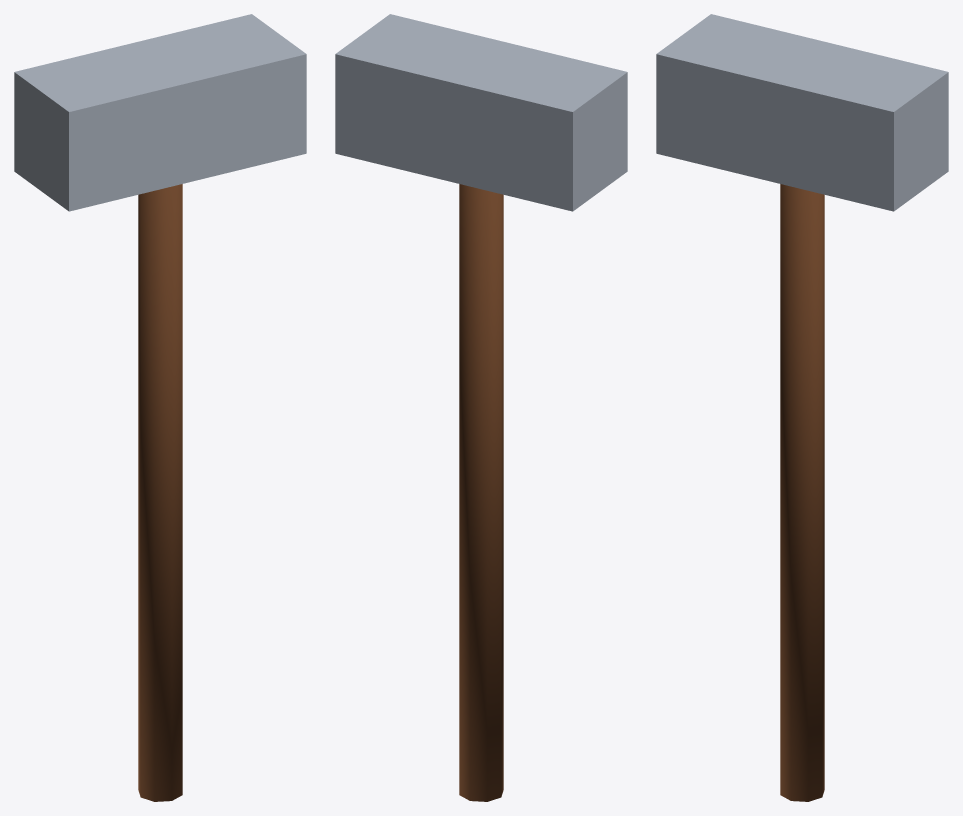
File: hammer.glb
3 renders of one model, left to right at view 1: azimuth 30°, elevation 25°; view 2: azimuth 150°, elevation 25°; view 3: azimuth 330°, elevation 25°, orthographic.
Parts seen in each view (by area): view 1: hammer; view 2: hammer; view 3: hammer.
Part boxes in pixels (x1=…): hammer: x1=14, y1=14, x2=306, y2=801; hammer: x1=335, y1=14, x2=627, y2=801; hammer: x1=656, y1=14, x2=948, y2=801.
Size of the model in its own units: 0.3 by 0.88 by 0.12.
